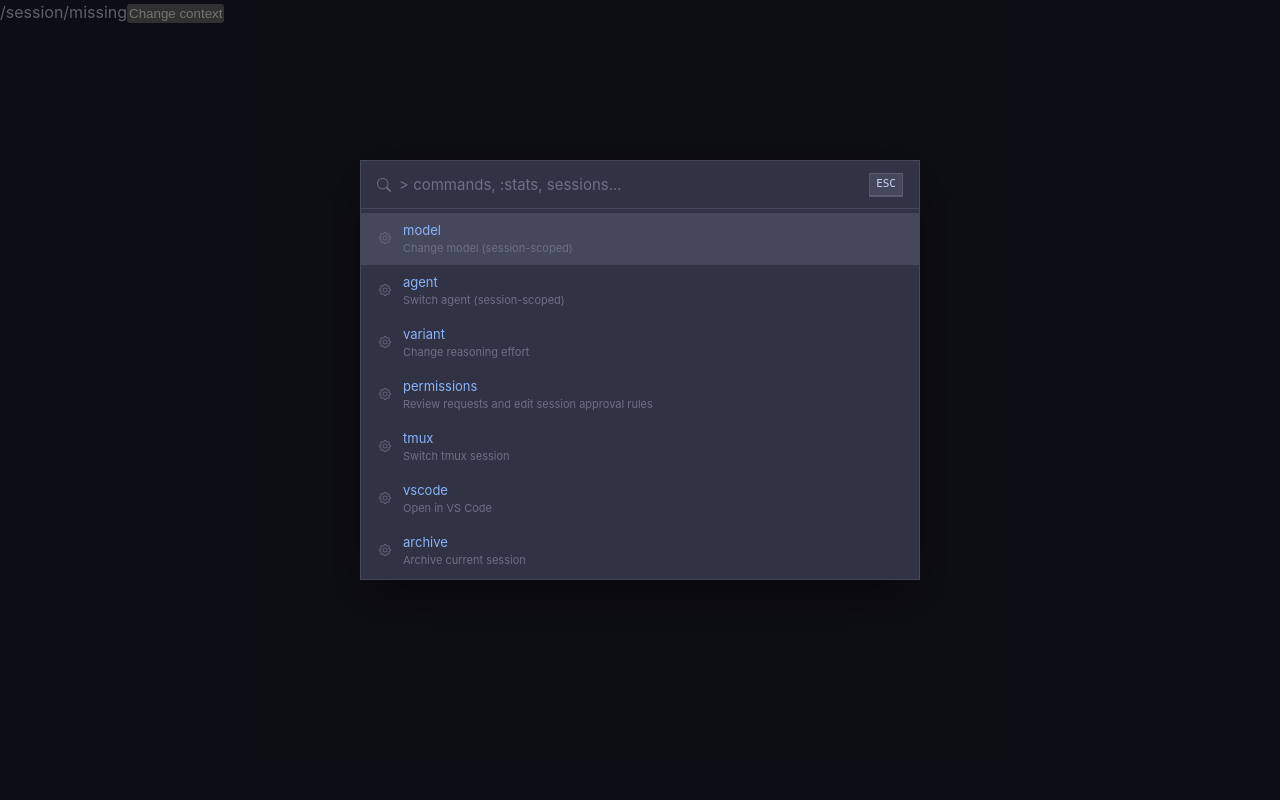
Test: plugin command contributions › shows missing lookup results without opening a local worktree
Type ">wt" into the dropdown at (630, 184), box [399,175,861,194]
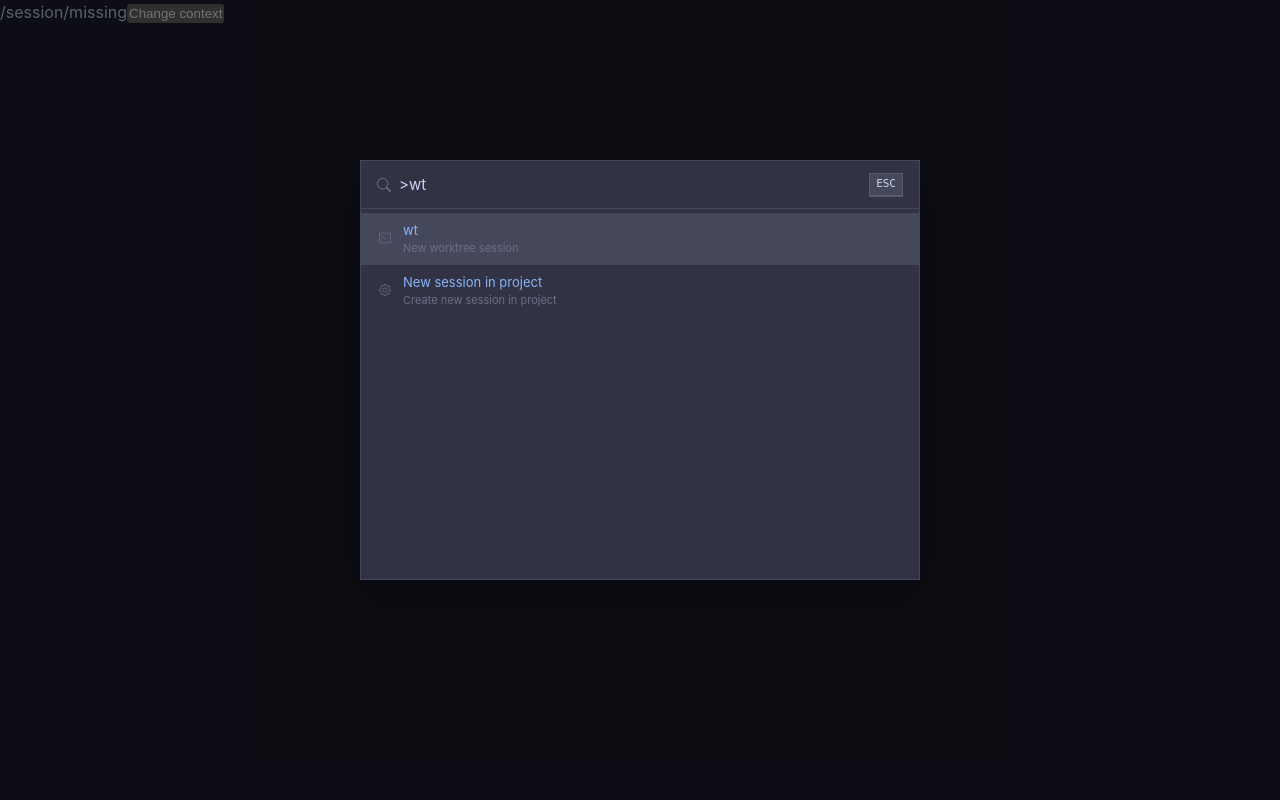
Click the option "wt New worktree session" at (461, 248), box [361,212,919,264]
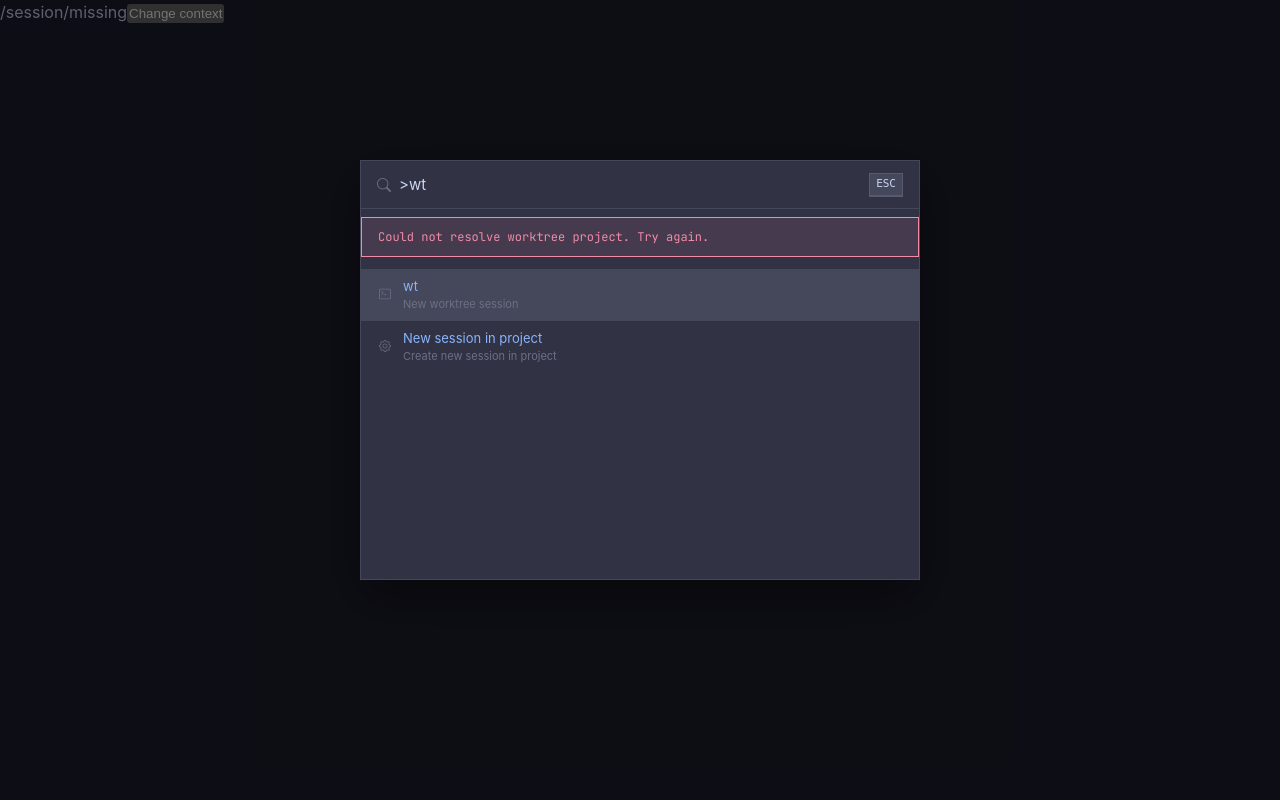
Check: the message shows "Could not resolve worktree project", box [378,228,709,244]
